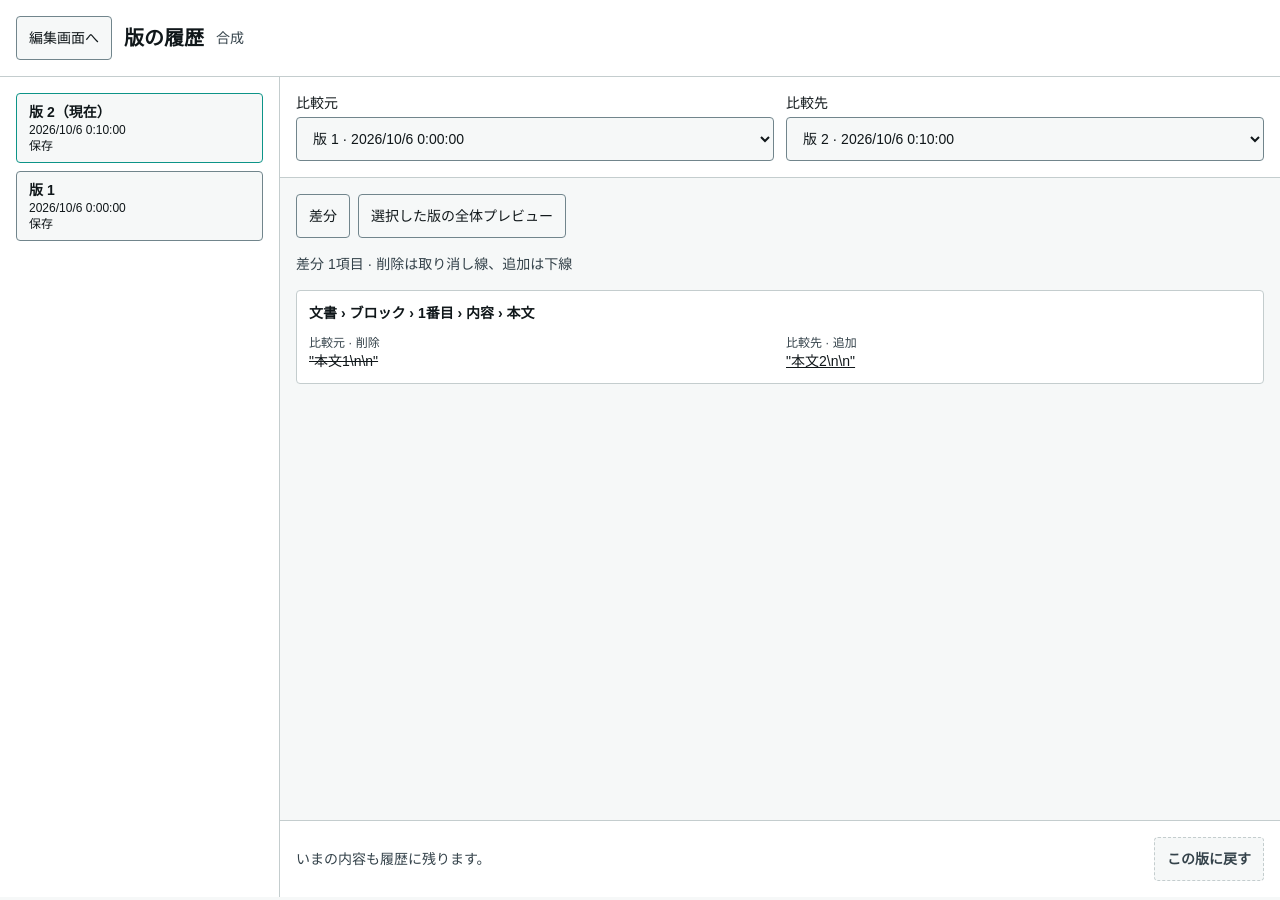
Test case: シート全体の版の履歴 › 復元中の二重送信と離脱を防ぐ
Click the button "版 1 2026/10/6 0:00:00 保存" at x=140, y=206, box [16, 171, 263, 241]
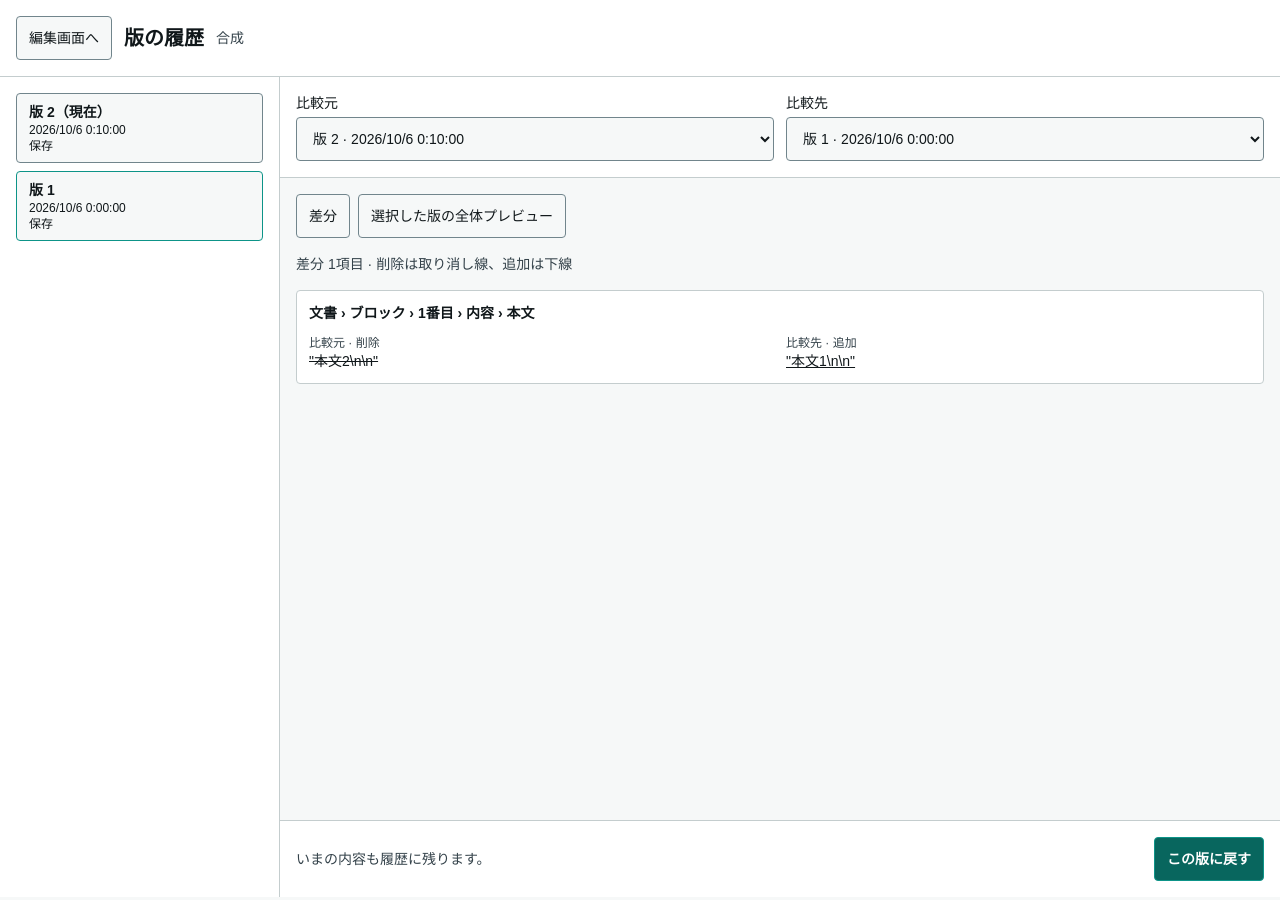
Result: the button "この版に戻す" is enabled
Click the button "この版に戻す" at x=1209, y=859, box [1154, 837, 1264, 881]
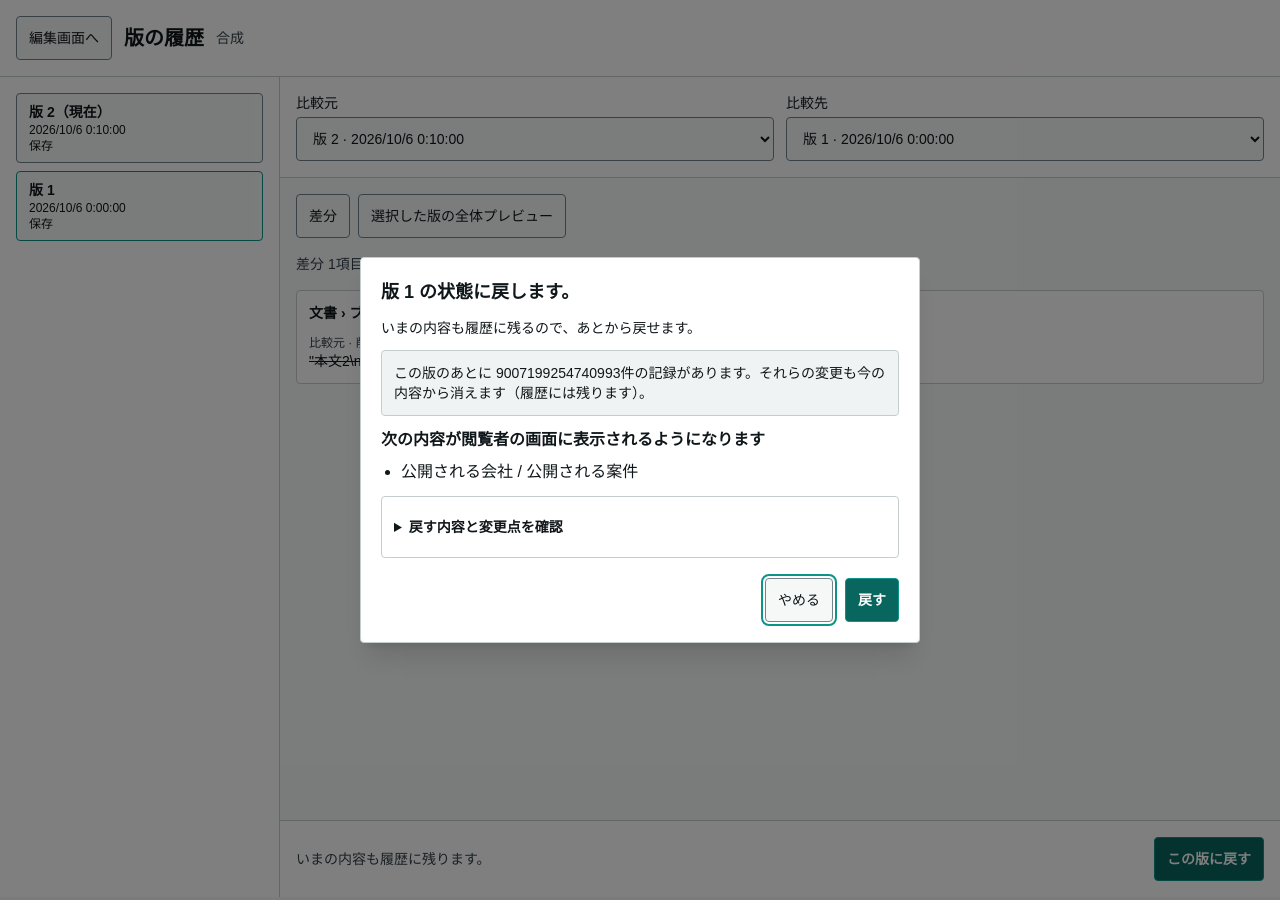
Click the button "戻す" at x=872, y=600, box [845, 578, 899, 622]
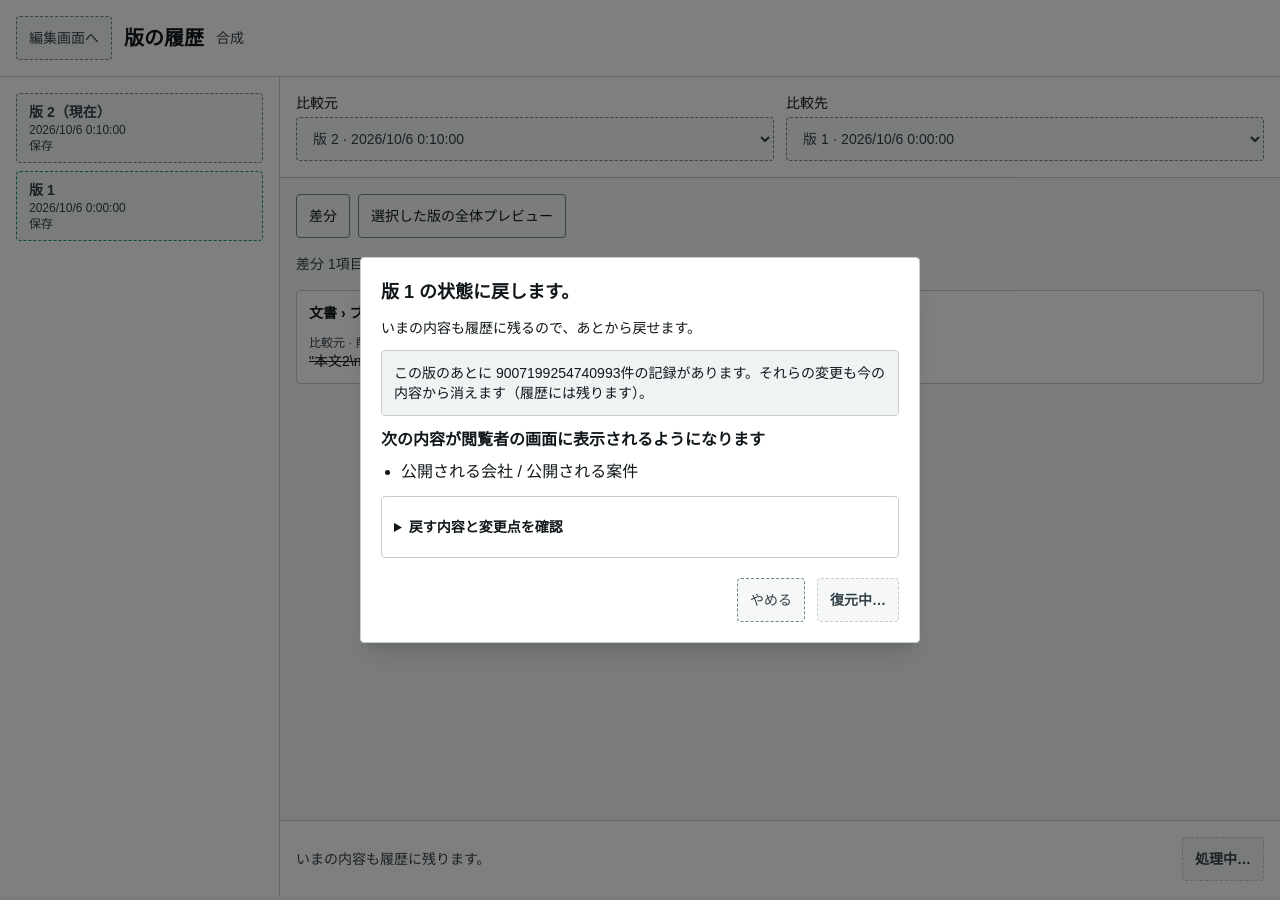
Result: the button "復元中…" is disabled at [817, 578, 899, 622]
Result: the button "やめる" is disabled at [737, 578, 805, 622]
